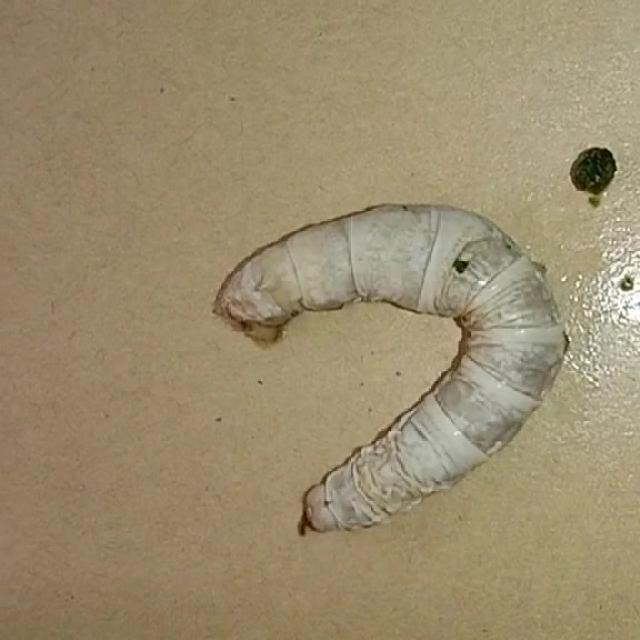Grasserie: (178, 158, 607, 556)
